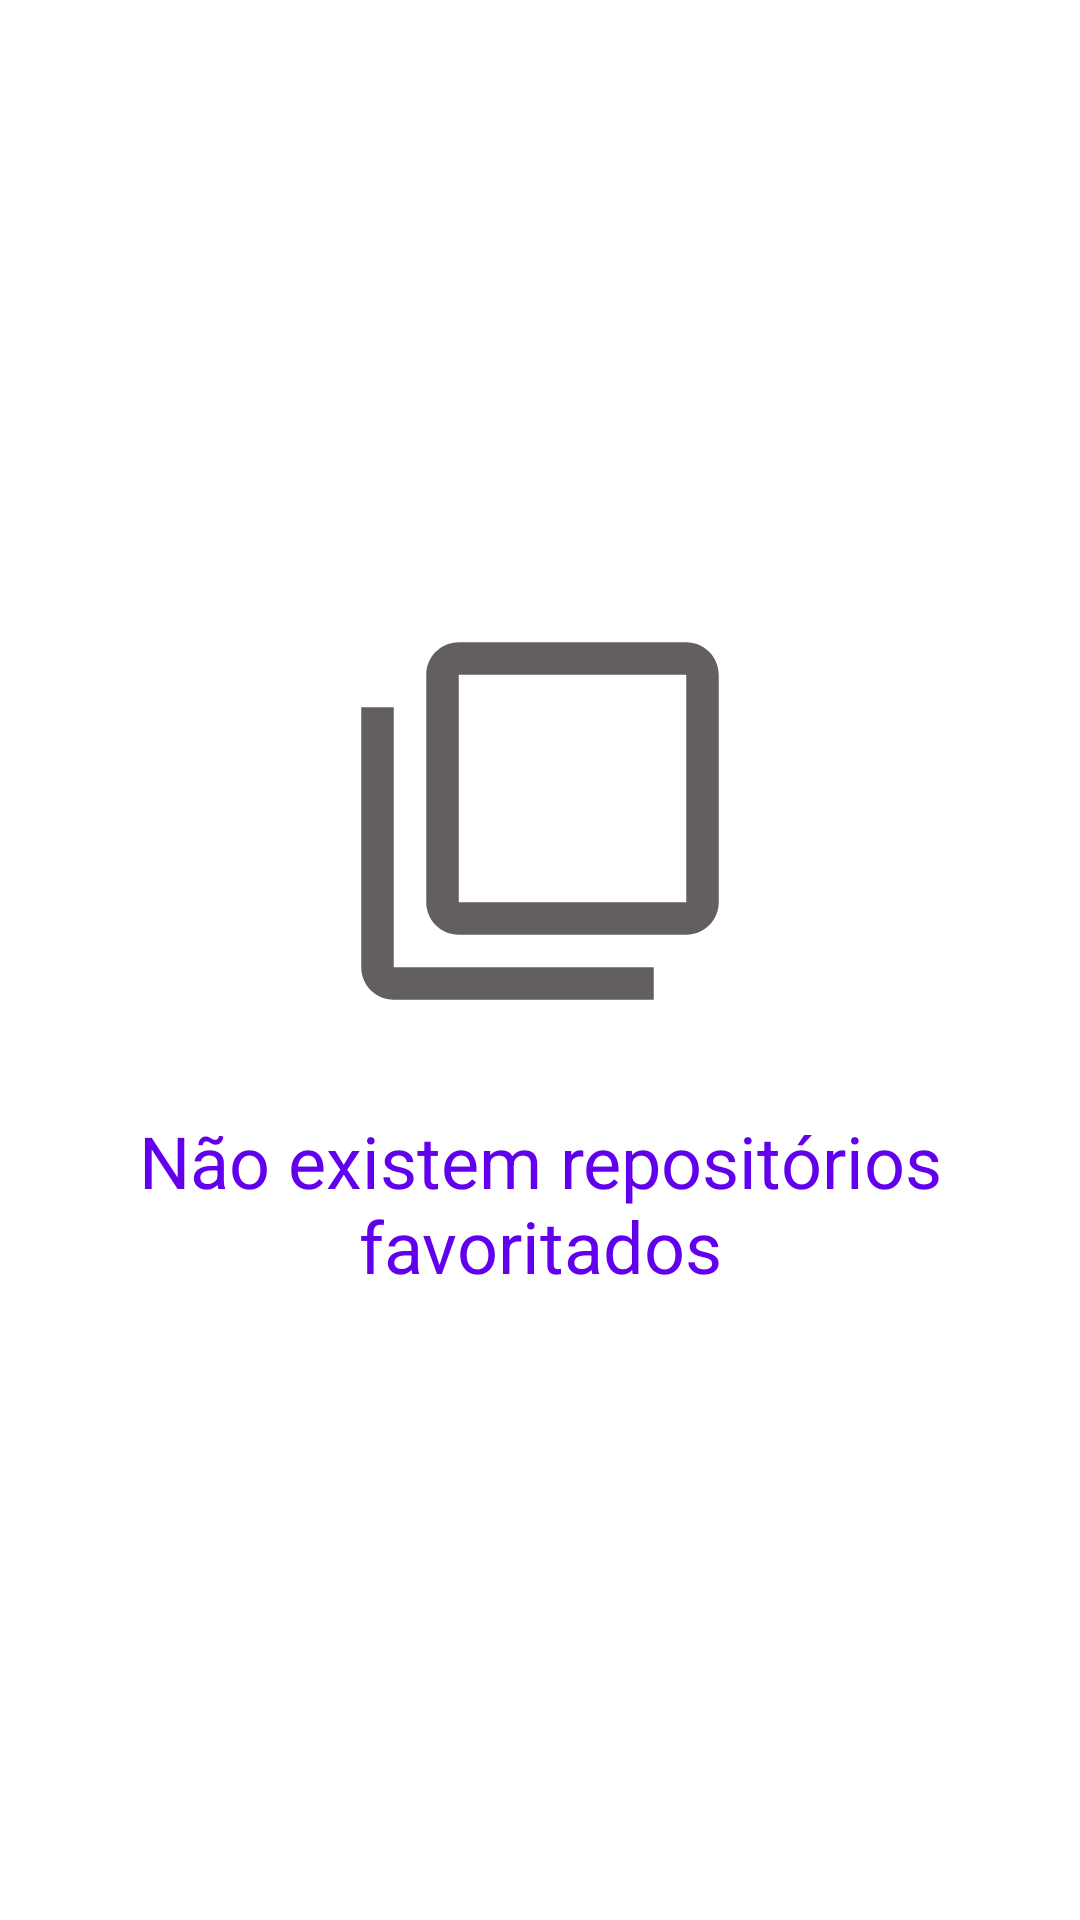

Screen size 1080×1920. Icon name, then its box in pixels as region(x1, y1, x2, y2):
filter none: region(361, 642, 719, 1000)
